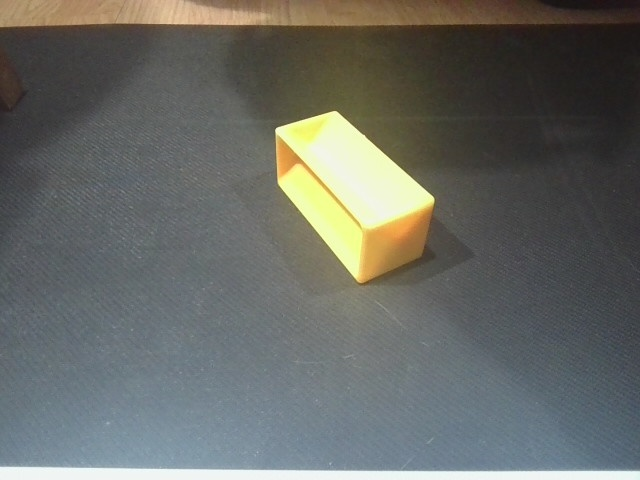YellowSample: (269, 107, 436, 285)
